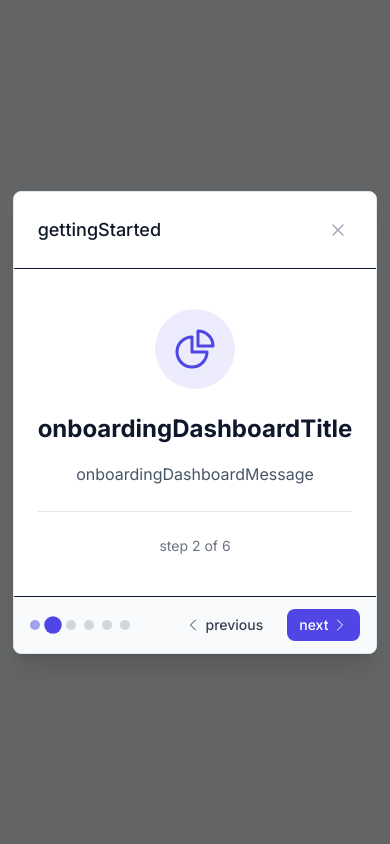
Scenario: OnboardingModal › Navigation › should navigate to previous step when Previous button is clicked
Click the button "previous" at (224,624), box [174,608,275,640]
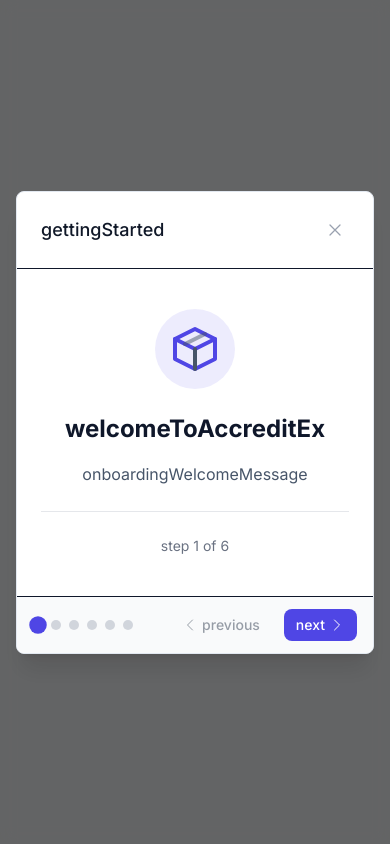
Check: the heading "welcomeToAccreditEx" is shown, box [65,414,325,442]
